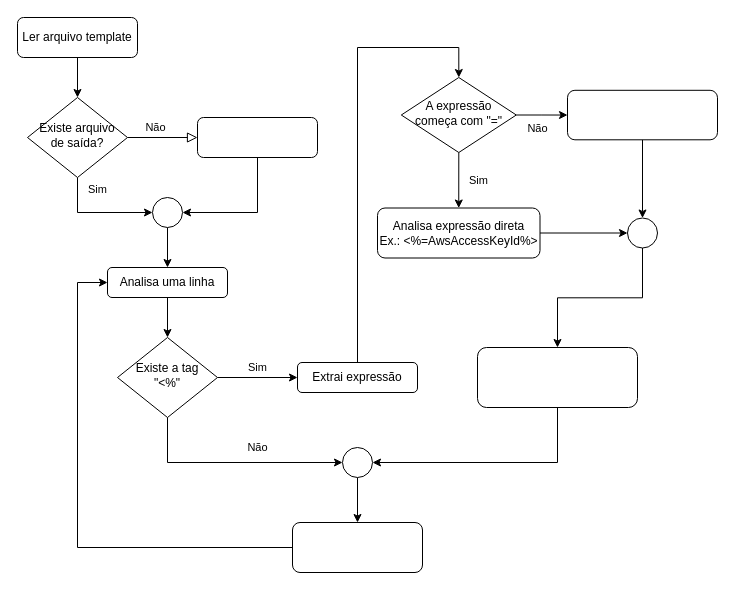
Some shapes in this 735 by 590 pixel diagram are drawn without their labels. Here are the shapes that lost their labels. From the top down, the box of each, then its label:
(566, 89, 718, 140): Analisa expressão direta com .Net Ex.: <%for...%>...<%/>
(196, 116, 318, 158): Cria arquivo de saída
(476, 346, 638, 408): Substitui a expressão encontrado pelo resultado obtido na análise
(292, 522, 422, 572): Escreve no arquivo de saída
